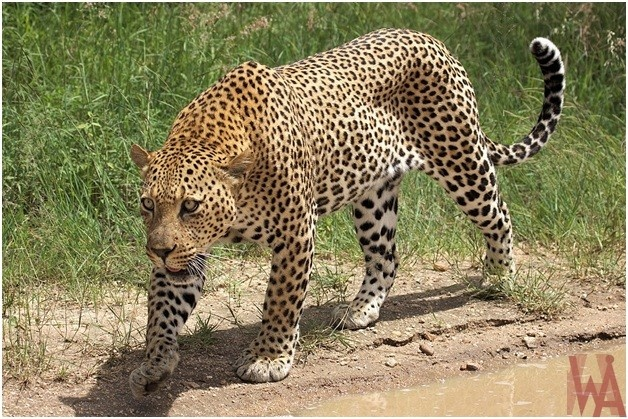leopard: (127, 24, 567, 388)
